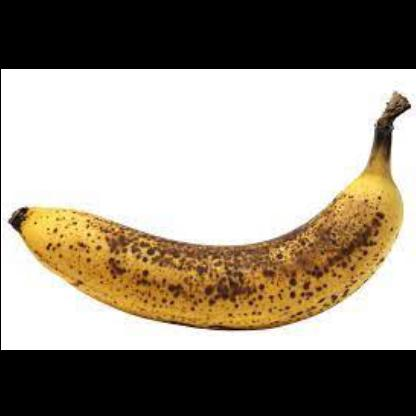banana: (6, 90, 410, 328)
